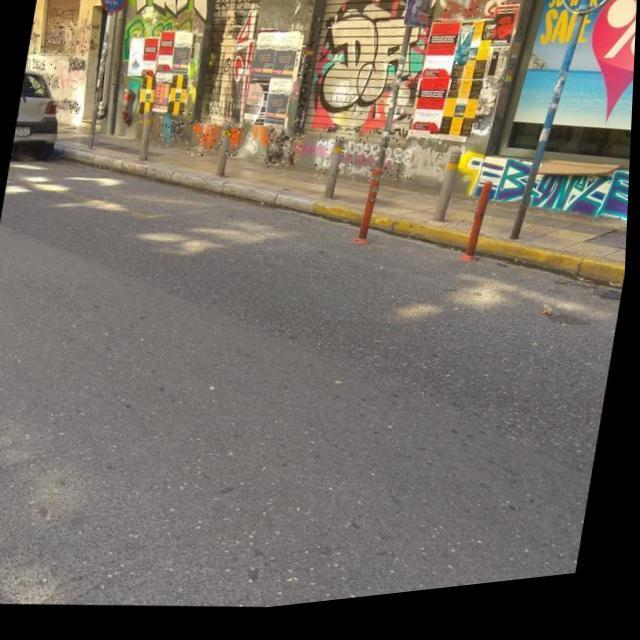-: (312, 133, 419, 200), (292, 4, 326, 136), (188, 120, 246, 166), (261, 130, 306, 178), (44, 20, 94, 62), (23, 52, 66, 93), (438, 0, 485, 35), (158, 112, 196, 154), (326, 0, 411, 17), (215, 0, 265, 24), (28, 13, 45, 55), (51, 96, 83, 118), (66, 54, 92, 74), (294, 0, 320, 16), (256, 0, 302, 8)
